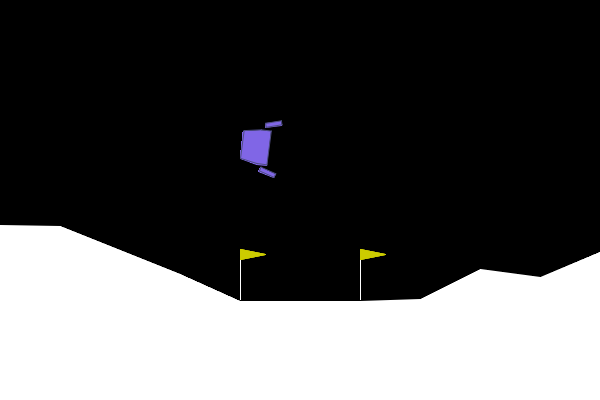lander: (236, 115, 283, 180)
